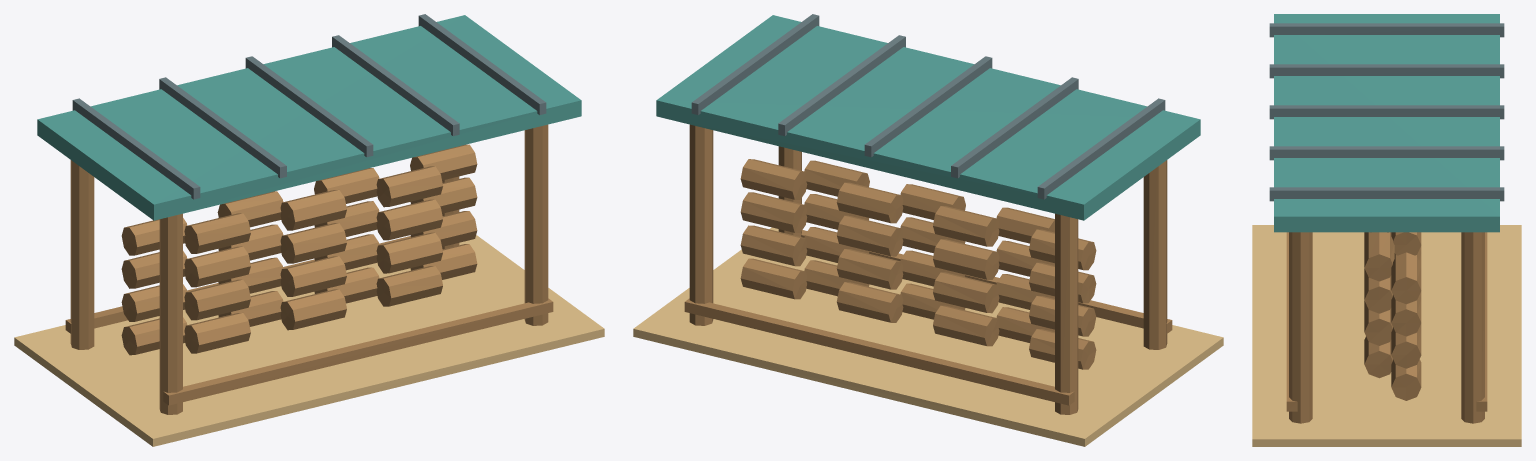
File: wood-pile.source.glb
3 views of the same model, side by side, from view 1: azimuth 30°, elevation 25°; view 2: azimuth 150°, elevation 25°; view 3: azimuth 270°, elevation 25° (orthographic). The views are drawn at different scales.
Visible parts, largest first — view 1: wood-pile-roof-main-mesh, wood-pile-dirt-pad-mesh, wood-pile-lower-rail-0.88-mesh, wood-pile-post-1.9-0.8-mesh, wood-pile-post--1.9-0.8-mesh, wood-pile-post--1.9--0.8-mesh, wood-pile-roof-rib-0-mesh, wood-pile-roof-rib--1.8-mesh, wood-pile-roof-rib-1.8-mesh, wood-pile-roof-rib-0.9-mesh, wood-pile-roof-rib--0.9-mesh, wood-pile-split-log-0.67-1-mesh (+28 smaller); view 2: wood-pile-roof-main-mesh, wood-pile-dirt-pad-mesh, wood-pile-lower-rail--0.88-mesh, wood-pile-post-1.9--0.8-mesh, wood-pile-post--1.9--0.8-mesh, wood-pile-post--1.9-0.8-mesh, wood-pile-roof-rib-0-mesh, wood-pile-roof-rib--1.8-mesh, wood-pile-roof-rib-1.8-mesh, wood-pile-roof-rib-0.9-mesh, wood-pile-roof-rib--0.9-mesh, wood-pile-split-log-0.67-6-mesh (+29 smaller); view 3: wood-pile-dirt-pad-mesh, wood-pile-roof-main-mesh, wood-pile-post-1.9--0.8-mesh, wood-pile-post-1.9-0.8-mesh, wood-pile-roof-rib--1.8-mesh, wood-pile-roof-rib--0.9-mesh, wood-pile-roof-rib-0-mesh, wood-pile-roof-rib-0.9-mesh, wood-pile-roof-rib-1.8-mesh, wood-pile-split-log-1.33-6-mesh, wood-pile-split-log-1.33-5-mesh, wood-pile-split-log-0.34-6-mesh (+8 smaller).
Boxes of the visible parts, box(x1,y1,x2,y2) form: wood-pile-roof-main-mesh: box(37, 15, 581, 220); wood-pile-dirt-pad-mesh: box(14, 235, 604, 446); wood-pile-lower-rail-0.88-mesh: box(163, 298, 553, 405); wood-pile-post-1.9-0.8-mesh: box(524, 124, 548, 325); wood-pile-post--1.9-0.8-mesh: box(159, 213, 182, 414); wood-pile-post--1.9--0.8-mesh: box(70, 160, 94, 349); wood-pile-roof-rib-0-mesh: box(245, 56, 373, 157); wood-pile-roof-rib--1.8-mesh: box(72, 98, 200, 199); wood-pile-roof-rib-1.8-mesh: box(418, 14, 546, 115); wood-pile-roof-rib-0.9-mesh: box(332, 35, 459, 136); wood-pile-roof-rib--0.9-mesh: box(159, 77, 286, 178); wood-pile-split-log-0.67-1-mesh: box(184, 279, 250, 320); wood-pile-roof-main-mesh: box(656, 15, 1200, 220); wood-pile-dirt-pad-mesh: box(633, 227, 1223, 446); wood-pile-lower-rail--0.88-mesh: box(684, 298, 1074, 405); wood-pile-post-1.9--0.8-mesh: box(689, 124, 713, 325); wood-pile-post--1.9--0.8-mesh: box(1055, 213, 1078, 414); wood-pile-post--1.9-0.8-mesh: box(1143, 160, 1167, 349); wood-pile-roof-rib-0-mesh: box(864, 56, 992, 157); wood-pile-roof-rib--1.8-mesh: box(1037, 98, 1165, 199); wood-pile-roof-rib-1.8-mesh: box(691, 14, 819, 115); wood-pile-roof-rib-0.9-mesh: box(778, 35, 905, 136); wood-pile-roof-rib--0.9-mesh: box(951, 77, 1078, 178); wood-pile-split-log-0.67-6-mesh: box(740, 225, 807, 266); wood-pile-dirt-pad-mesh: box(1252, 225, 1521, 446); wood-pile-roof-main-mesh: box(1274, 14, 1499, 232); wood-pile-post-1.9--0.8-mesh: box(1461, 232, 1484, 423); wood-pile-post-1.9-0.8-mesh: box(1289, 232, 1312, 423); wood-pile-roof-rib--1.8-mesh: box(1269, 23, 1504, 37); wood-pile-roof-rib--0.9-mesh: box(1269, 64, 1504, 78); wood-pile-roof-rib-0-mesh: box(1269, 105, 1504, 119); wood-pile-roof-rib-0.9-mesh: box(1269, 146, 1504, 160); wood-pile-roof-rib-1.8-mesh: box(1269, 187, 1504, 201); wood-pile-split-log-1.33-6-mesh: box(1391, 252, 1421, 304); wood-pile-split-log-1.33-5-mesh: box(1364, 232, 1394, 281); wood-pile-split-log-0.34-6-mesh: box(1391, 359, 1421, 400).
Bounding box in the file's own units: 4.7 × 2.38 × 2.5.
